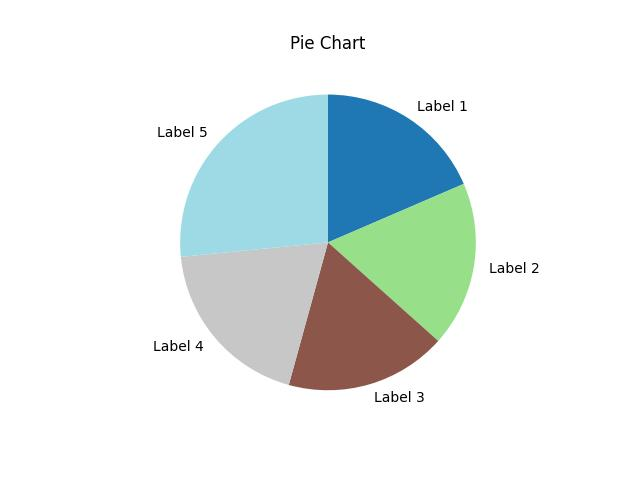sector: (178, 93, 329, 258), (327, 181, 476, 342), (175, 239, 331, 385), (286, 242, 436, 391), (328, 93, 464, 242)
